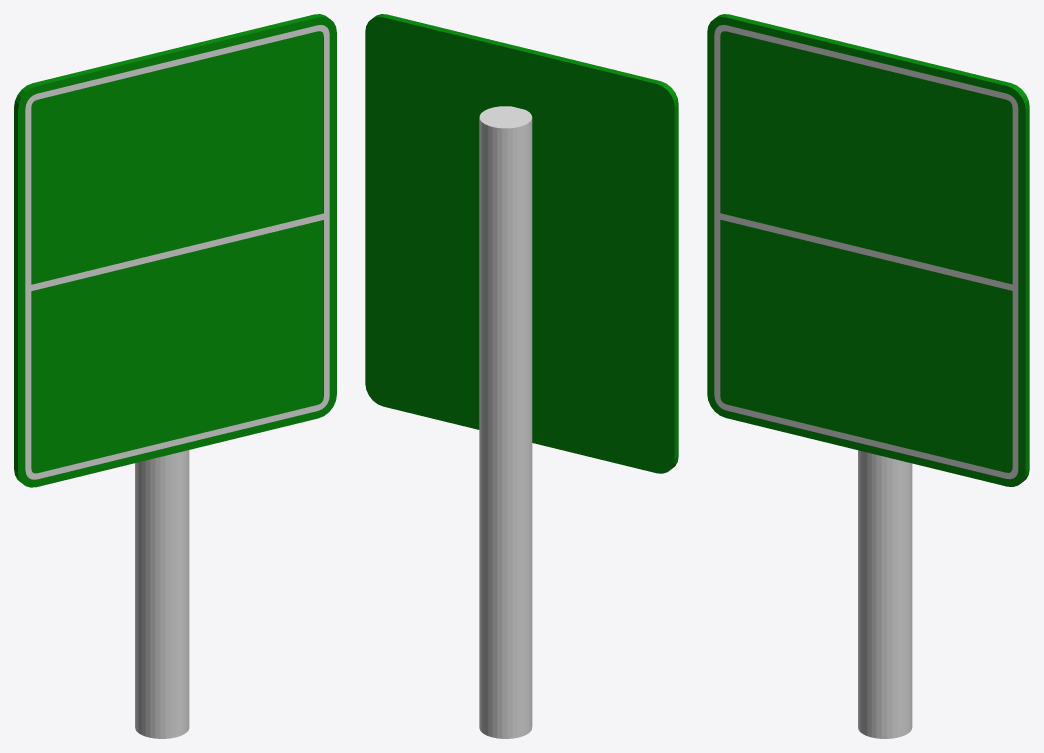
Rendered from 恶劣天气-路桩.gltf.
The picture shows the model from 3 angles, left to right: view 1: azimuth 30°, elevation 25°; view 2: azimuth 150°, elevation 25°; view 3: azimuth 330°, elevation 25°; orthographic projection. The views are drawn at different scales.
Parts seen in each view (by area): view 1: 桩号, 柱体.003; view 2: 桩号, 柱体.003; view 3: 桩号, 柱体.003.
Boxes of the visible parts, left/top/right/bottom form: 桩号: left=14, top=14, right=336, bottom=487; 柱体.003: left=135, top=450, right=189, bottom=738; 桩号: left=365, top=14, right=678, bottom=473; 柱体.003: left=479, top=106, right=532, bottom=738; 桩号: left=707, top=14, right=1029, bottom=486; 柱体.003: left=858, top=450, right=912, bottom=738.
Bounding box in the file's own units: 1.65 × 3.41 × 0.275.
